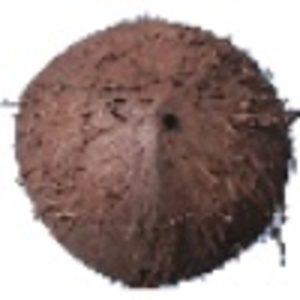coco: (5, 13, 300, 291)
